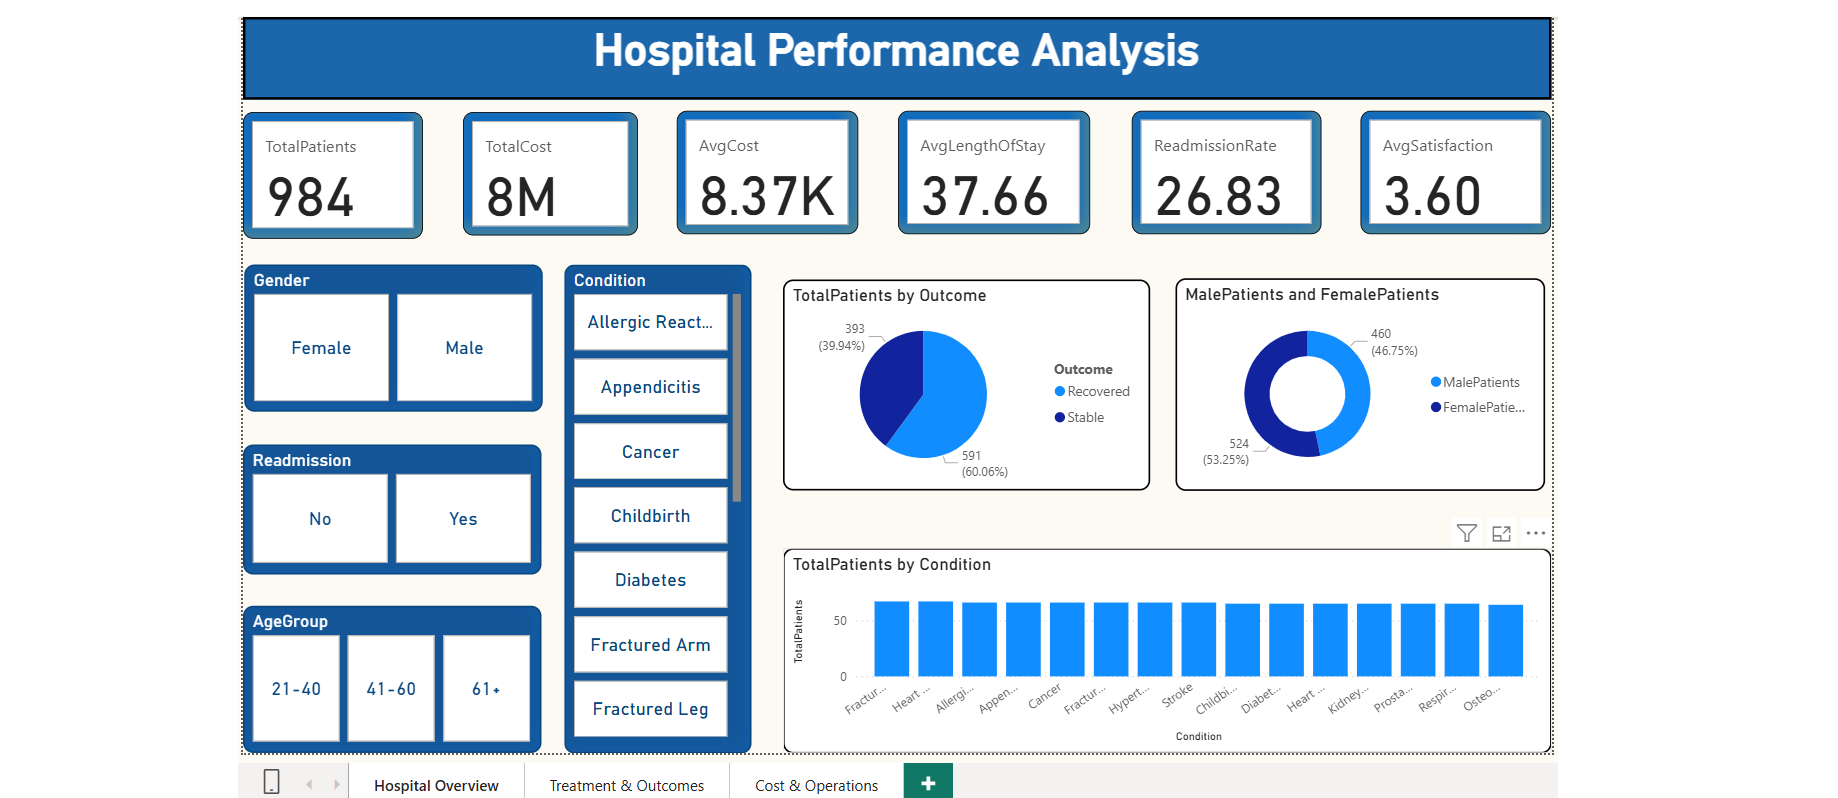

The page's visual inventory and layout, read from the dashboard file:
{"tool":"powerbi","page":{"name":"Hospital Overview","canvas":[1280,720],"ordinal":0},"visuals":[{"type":"cardVisual","fields":{"Data":["HospitalData.TotalPatients"]},"box":[0,92.5,176.2,123.8],"z":0},{"type":"cardVisual","fields":{"Data":["HospitalData.TotalCost"]},"box":[215.2,92.9,171.2,121.1],"z":1000},{"type":"cardVisual","fields":{"Data":["Avg(HospitalData.AvgCost)"]},"box":[424.3,91.7,177.3,121.1],"z":2000},{"type":"cardVisual","fields":{"Data":["HospitalData.AvgLengthOfStay"]},"box":[640.8,91.9,188,120.8],"z":3000},{"type":"cardVisual","fields":{"Data":["HospitalData.ReadmissionRate"]},"box":[870,91.9,185.2,120.8],"z":4000},{"type":"cardVisual","fields":{"Data":["HospitalData.AvgSatisfaction"]},"box":[1093.7,91.9,186.6,120.8],"z":5000},{"type":"donutChart","fields":{"Y":["HospitalData.MalePatients","HospitalData.FemalePatients"]},"box":[912.2,255.6,362,207.9],"z":6000},{"type":"pieChart","fields":{"Category":["HospitalData.Outcome"],"Y":["HospitalData.TotalPatients"]},"box":[528.3,256.8,359.5,206.7],"z":7000},{"type":"textbox","box":[0,0,1280.3,81],"z":8000},{"type":"columnChart","fields":{"Y":["HospitalData.TotalPatients"],"Category":["HospitalData.Condition"]},"box":[528.3,519.7,752,200.5],"z":9000},{"type":"advancedSlicerVisual","fields":{"Values":["HospitalData.AgeGroup"]},"box":[0,576.3,292.3,144.1],"z":10000},{"type":"advancedSlicerVisual","fields":{"Values":["HospitalData.Readmission"]},"box":[0,418.2,292.3,127.2],"z":11000},{"type":"advancedSlicerVisual","fields":{"Values":["HospitalData.Gender"]},"box":[1.2,242.1,292.3,144.3],"z":12000},{"type":"advancedSlicerVisual","fields":{"Values":["HospitalData.Condition"]},"box":[314.3,242.1,183.4,478.1],"z":15000}]}

Visuals, with their boxes on the page's 1280x720 design canvas (x1, y1, x2, y2). These are canvas units, not pixel positions in the 1838x798 screenshot, which may show the page scaled, cropped or inside an application window:
cardVisual - HospitalData.TotalPatients: <region>0, 92, 176, 216</region>
cardVisual - HospitalData.TotalCost: <region>215, 93, 386, 214</region>
cardVisual - Avg(HospitalData.AvgCost): <region>424, 92, 602, 213</region>
cardVisual - HospitalData.AvgLengthOfStay: <region>641, 92, 829, 213</region>
cardVisual - HospitalData.ReadmissionRate: <region>870, 92, 1055, 213</region>
cardVisual - HospitalData.AvgSatisfaction: <region>1094, 92, 1280, 213</region>
donutChart - HospitalData.MalePatients x HospitalData.FemalePatients: <region>912, 256, 1274, 464</region>
pieChart - HospitalData.Outcome x HospitalData.TotalPatients: <region>528, 257, 888, 464</region>
textbox: <region>0, 0, 1280, 81</region>
columnChart - HospitalData.TotalPatients x HospitalData.Condition: <region>528, 520, 1280, 720</region>
advancedSlicerVisual - HospitalData.AgeGroup: <region>0, 576, 292, 720</region>
advancedSlicerVisual - HospitalData.Readmission: <region>0, 418, 292, 545</region>
advancedSlicerVisual - HospitalData.Gender: <region>1, 242, 294, 386</region>
advancedSlicerVisual - HospitalData.Condition: <region>314, 242, 498, 720</region>
